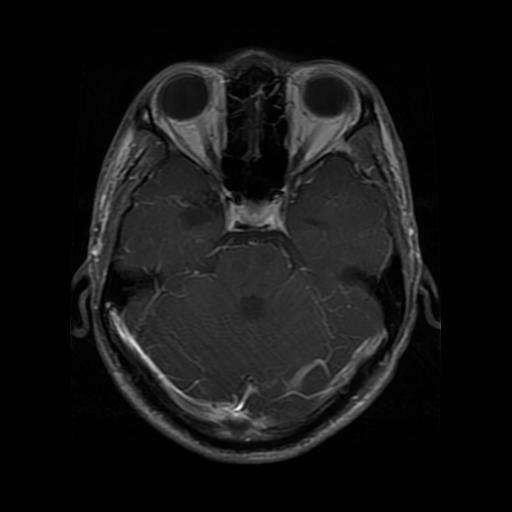Tumour-Glioma: (166, 186, 239, 253)
